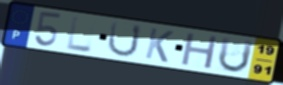5: (33, 11, 63, 48)
H: (179, 31, 220, 71)
K: (143, 26, 176, 65)
L: (65, 15, 93, 54)
U: (216, 36, 255, 75), (105, 20, 143, 58)
